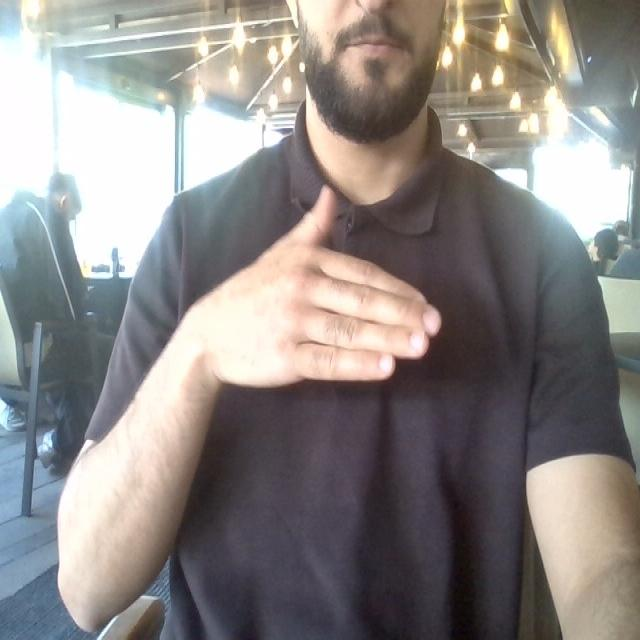Hand: (188, 187, 440, 386)
